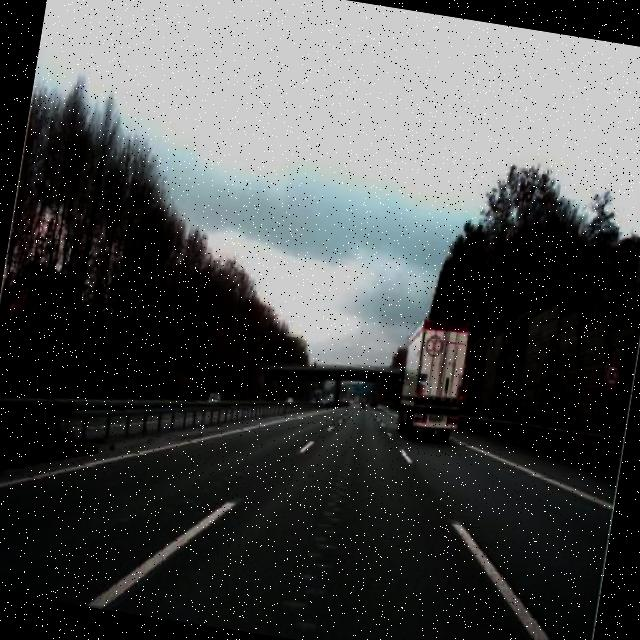Ograniczenie predkosci do 80: (600, 356, 624, 394)
